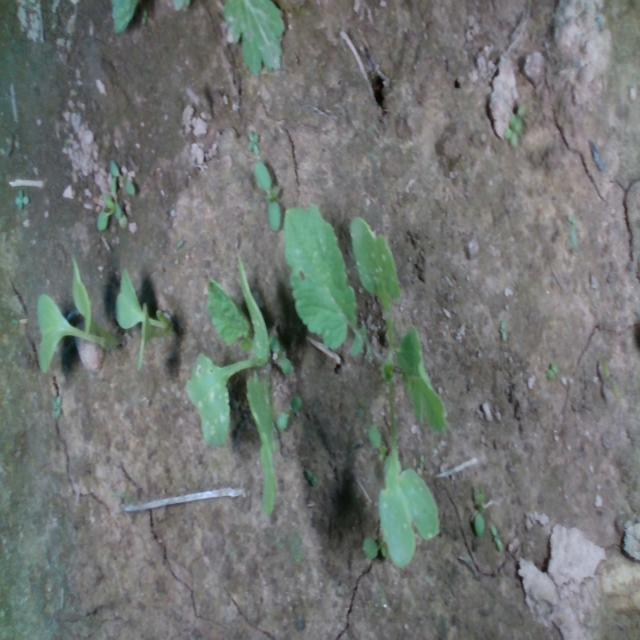weed: (251, 159, 281, 230), (489, 520, 504, 552), (246, 128, 260, 156), (14, 187, 30, 210), (546, 360, 558, 380)
